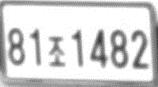1: (28, 27, 43, 67), (70, 28, 85, 67)
2: (130, 28, 149, 69)
4: (88, 27, 109, 68)
8: (109, 28, 129, 68), (6, 27, 26, 66)
조: (47, 35, 66, 67)
